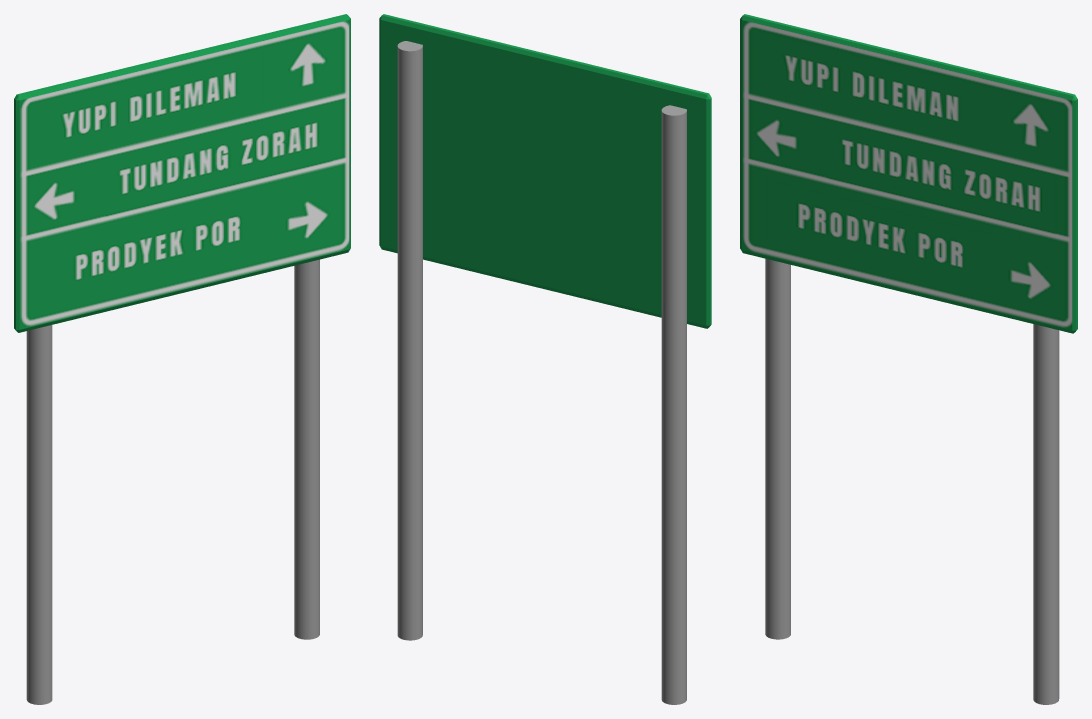
The model's file is Stack.fbx.
The picture shows the model from 3 angles, left to right: view 1: azimuth 30°, elevation 25°; view 2: azimuth 150°, elevation 25°; view 3: azimuth 330°, elevation 25°; orthographic projection.
Visible parts, largest first — view 1: pCylinder23; view 2: pCylinder23; view 3: pCylinder23.
Boxes of the visible parts, x1,y1,x2,y2 form: pCylinder23: [14, 14, 350, 704]; pCylinder23: [379, 14, 711, 704]; pCylinder23: [740, 14, 1077, 704].
Size of the model in its own units: 4.77 by 8.37 by 0.3595.
Materials: 2 (1 with a texture image).
